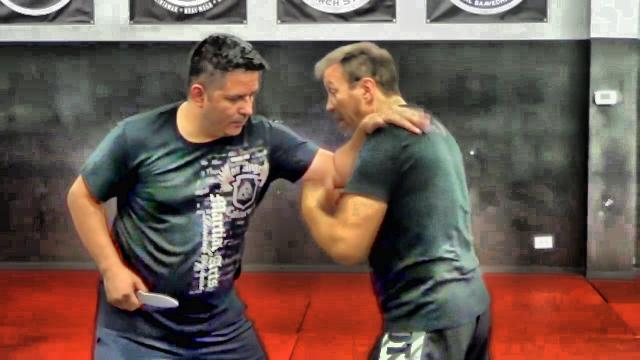knife: (99, 280, 183, 312)
